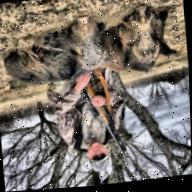boar: (11, 2, 112, 102), (94, 0, 179, 86)
